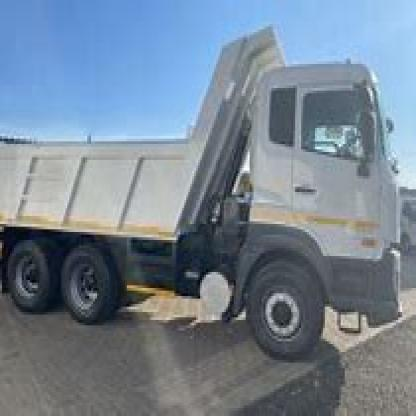dump_truck: (10, 13, 396, 360)
